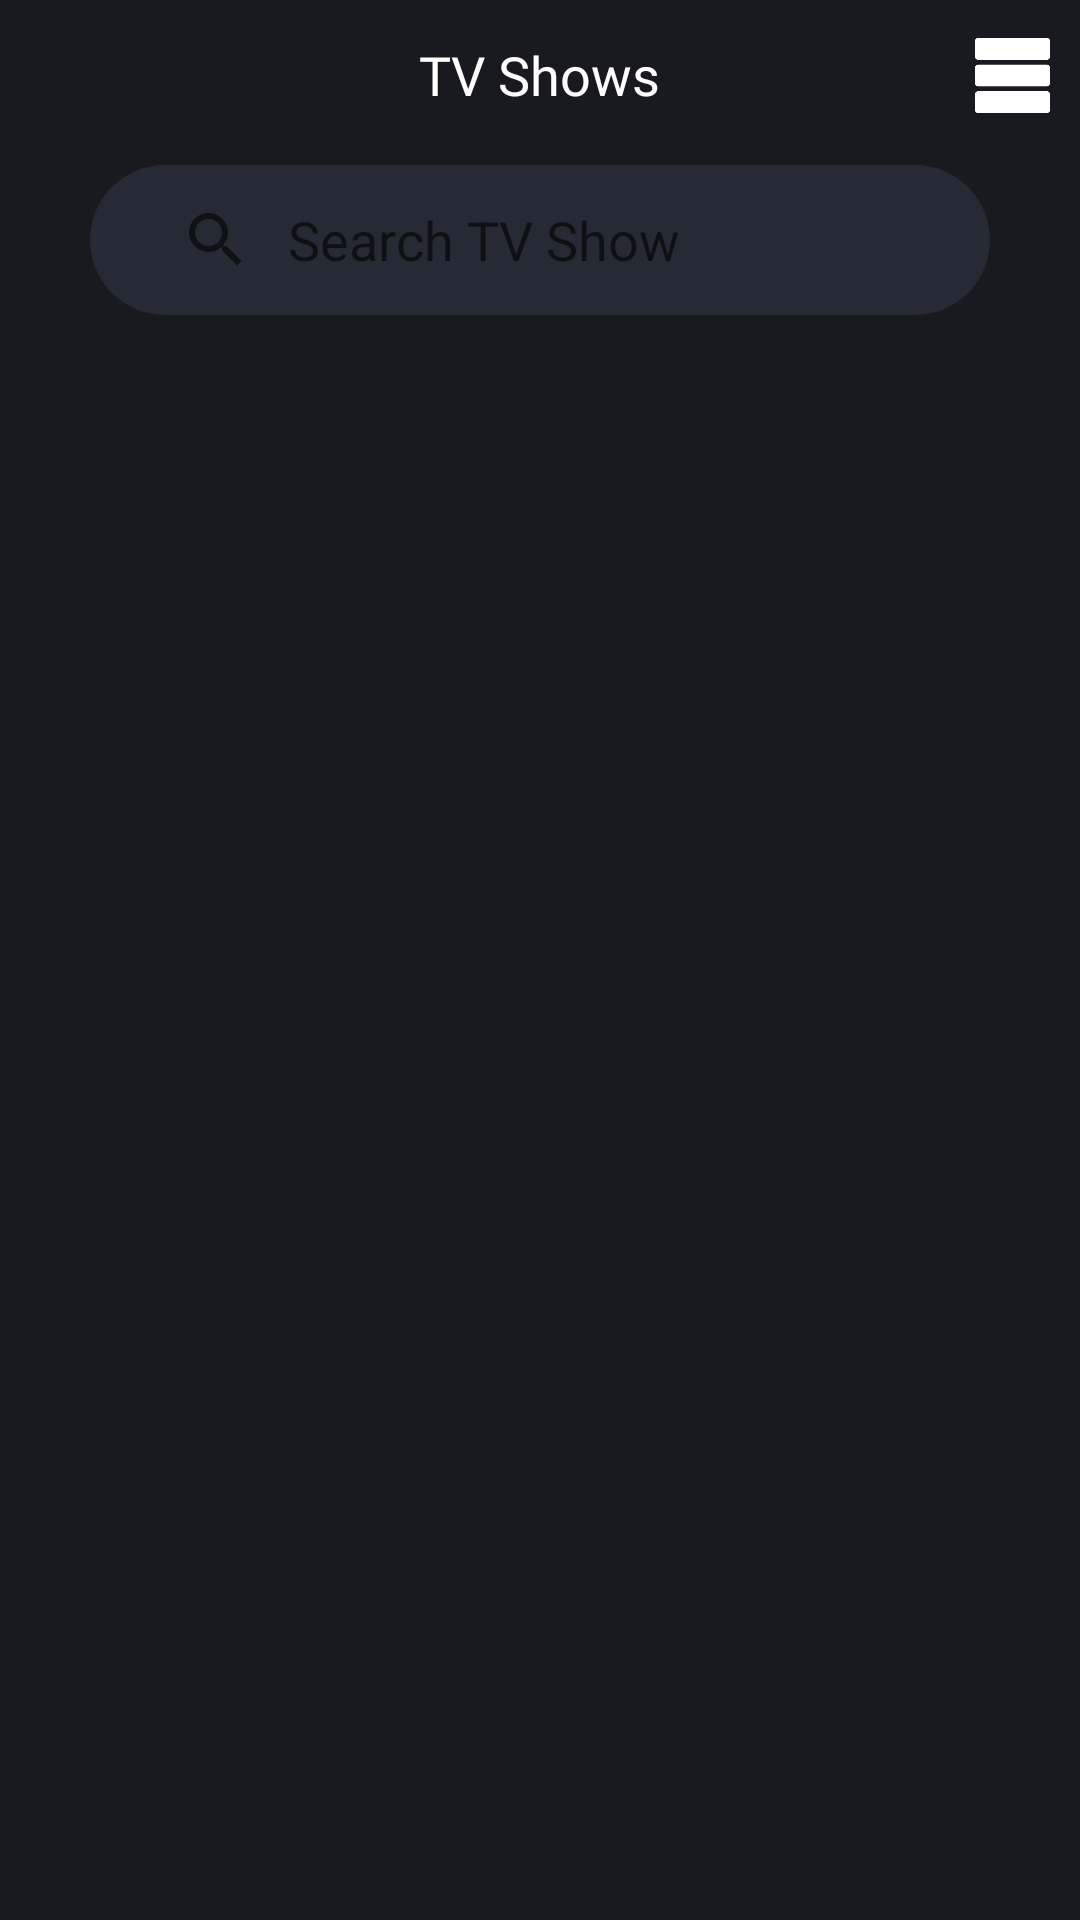

Screen size 1080x1920. Icon name, then its box in pixels as box(x1, y1, x2, y2):
Change Layout: box(975, 38, 1050, 113)
